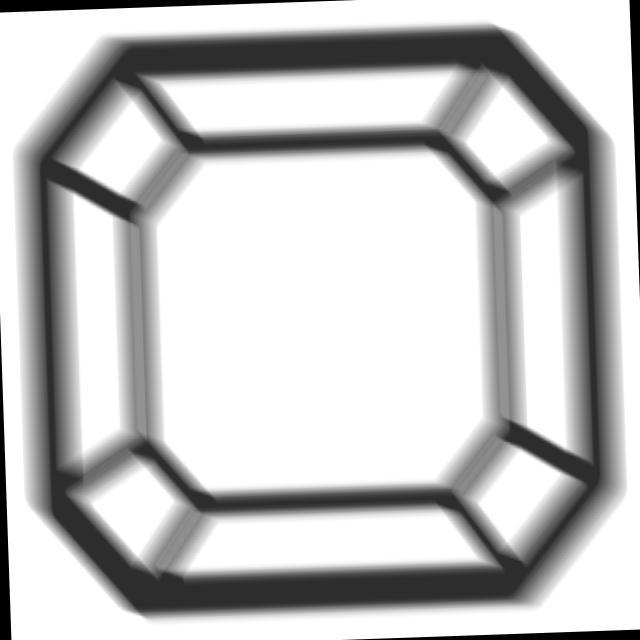emerald: (3, 11, 635, 636)
